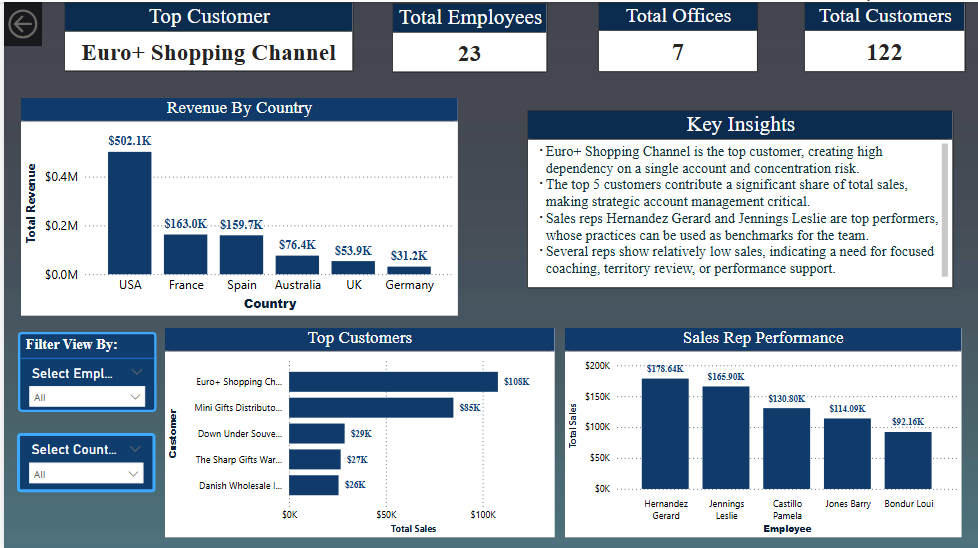

The page's visual inventory and layout, read from the dashboard file:
{"tool":"powerbi","page":{"name":"Customer & Regional ","canvas":[1280,720],"ordinal":2},"visuals":[{"type":"slicer","title":"Filter View By:","fields":{"Values":["employees.EmpFullName"]},"box":[17.9,433.5,181.7,104.6],"z":0},{"type":"slicer","fields":{"Values":["customers.country"]},"box":[16.5,565.7,181.7,78.5],"z":1000},{"type":"card","title":"Total Offices","fields":{"Values":["offices.officeCode"]},"box":[772.7,0,210,92.4],"z":2000},{"type":"card","title":"Total Employees","fields":{"Values":["employees.employeeNumber"]},"box":[493.9,1.7,203.3,90.7],"z":3000},{"type":"card","title":"Total Customers","fields":{"Values":["customers.customerNumber"]},"box":[1051.5,0,211.7,92.4],"z":4000},{"type":"columnChart","title":"Revenue By Country","fields":{"Category":["customers.country"],"Y":["order details.Sales"]},"box":[21.8,126,574.5,285.6],"z":5000},{"type":"barChart","title":"Top Customers","fields":{"Category":["customers.customerName"],"Y":["order details.Sales"]},"box":[212,428,512,275.3],"z":6000},{"type":"columnChart","title":"Sales Rep Performance","fields":{"Category":["employees.EmpFullName"],"Y":["order details.Sales"]},"box":[737.4,428.3,520.7,275.5],"z":7000},{"type":"card","title":"Top Customer","fields":{"Values":["customers.Top Customer"]},"box":[30.2,1.7,379.6,90.7],"z":8000},{"type":"textbox","title":"Key Insights","box":[686.8,141.8,560.2,234],"z":9000},{"type":"qnaVisual","box":[21.8,570,574.5,150],"z":9001},{"type":"qnaVisual","box":[21.8,570,574.5,150],"z":9002}]}

Visuals, with their boxes in screenshot pixels (x1, y1, x2, y2), scaled from the page's 1280x720 canvas onto the 978x548 screenshot:
"Filter View By:" slicer: (14, 330, 153, 410)
slicer - customers.country: (13, 431, 151, 490)
"Total Offices" card: (590, 0, 751, 70)
"Total Employees" card: (377, 1, 533, 70)
"Total Customers" card: (803, 0, 965, 70)
"Revenue By Country" columnChart: (17, 96, 456, 313)
"Top Customers" barChart: (162, 326, 553, 535)
"Sales Rep Performance" columnChart: (563, 326, 961, 536)
"Top Customer" card: (23, 1, 313, 70)
"Key Insights" textbox: (525, 108, 953, 286)
qnaVisual: (17, 434, 456, 547)
qnaVisual: (17, 434, 456, 547)
